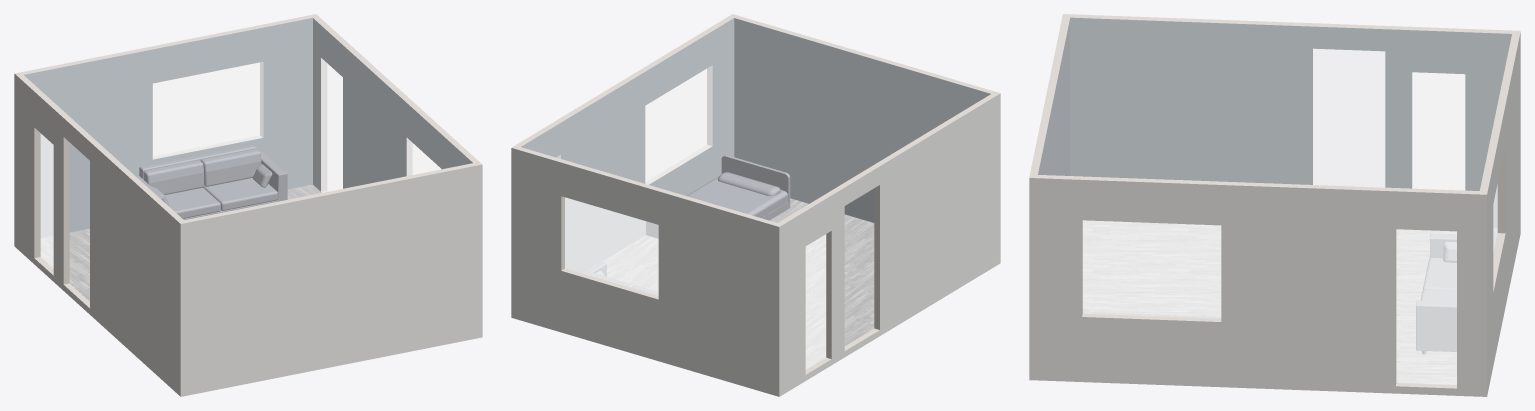
3 views of the same model, side by side, from view 1: azimuth 30°, elevation 25°; view 2: azimuth 150°, elevation 25°; view 3: azimuth 270°, elevation 25° (orthographic). The views are drawn at different scales.
Visible parts, largest first — view 1: wall_1 (×2), ceiling_Other_0, wall_3 (×3), wall_2 (×3), window_1 (×2), wall_0 (×3), sofa0, door_0 (×2), door_1 (×2), floor_Other_0, window_0 (×2); view 2: ceiling_Other_0, wall_2 (×3), wall_3 (×3), wall_1 (×2), wall_0 (×3), window_1 (×2), window_0 (×2), floor_Other_0, door_1 (×2), bed0, sofa0; view 3: wall_0 (×3), ceiling_Other_0, wall_3 (×2), window_0 (×2), door_0 (×2), floor_Other_0, door_1 (×2), wall_2 (×3), sofa0, wall_1 (×2).
Boxes of the visible parts, x1,y1,x2,y2 form: wall_1 (×2): [180, 163, 482, 396]; ceiling_Other_0: [25, 18, 471, 219]; wall_3 (×3): [14, 73, 183, 396]; wall_2 (×3): [15, 14, 315, 237]; window_1 (×2): [153, 62, 262, 158]; wall_0 (×3): [313, 14, 481, 192]; sofa0: [136, 144, 287, 219]; door_0 (×2): [321, 58, 342, 192]; door_1 (×2): [41, 134, 53, 267]; floor_Other_0: [41, 184, 321, 301]; window_0 (×2): [407, 138, 440, 175]; ceiling_Other_0: [522, 18, 989, 222]; wall_2 (×3): [511, 147, 779, 396]; wall_3 (×3): [778, 93, 1000, 396]; wall_1 (×2): [733, 14, 999, 222]; wall_0 (×3): [512, 14, 734, 272]; window_1 (×2): [565, 197, 658, 295]; window_0 (×2): [645, 65, 712, 184]; floor_Other_0: [602, 198, 874, 369]; door_1 (×2): [806, 234, 825, 369]; bed0: [646, 155, 790, 238]; sofa0: [580, 261, 658, 295]; wall_0 (×3): [1029, 175, 1486, 396]; ceiling_Other_0: [1038, 18, 1511, 190]; wall_3 (×2): [1063, 14, 1520, 227]; window_0 (×2): [1083, 220, 1220, 318]; door_0 (×2): [1396, 229, 1456, 384]; floor_Other_0: [1083, 220, 1497, 384]; door_1 (×2): [1412, 72, 1464, 190]; wall_2 (×3): [1480, 31, 1520, 396]; sofa0: [1416, 231, 1497, 353]; wall_1 (×2): [1029, 14, 1070, 177].
Bounding box in the file's own units: 5.31 × 2.77 × 6.1.
15 materials, 1 textured.
